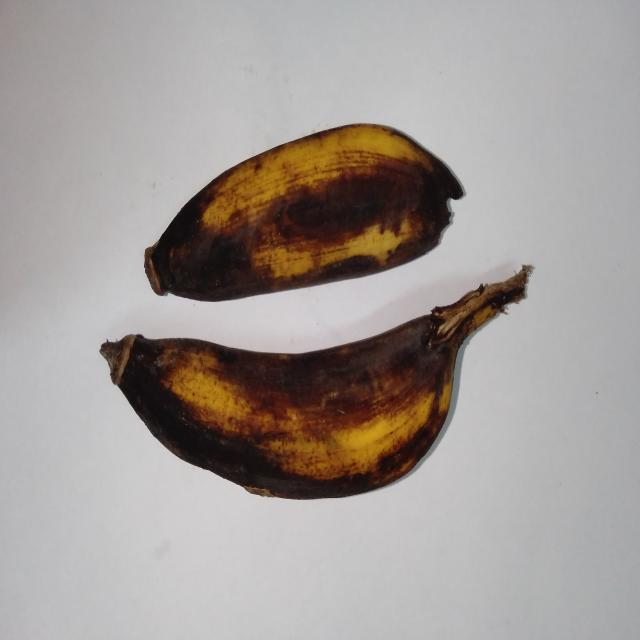banana: (101, 267, 531, 498), (146, 125, 462, 300)
